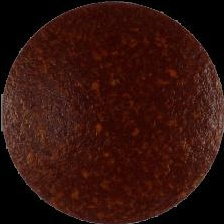75826-114: (0, 0, 224, 224)
